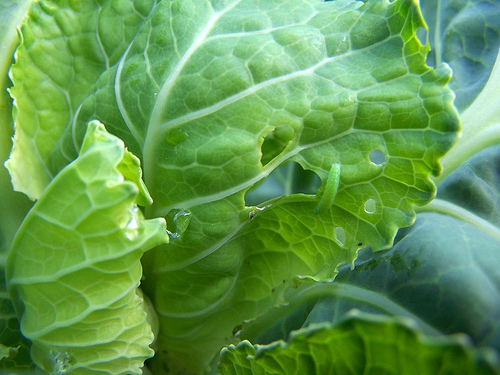cabbage: (0, 0, 462, 373)
